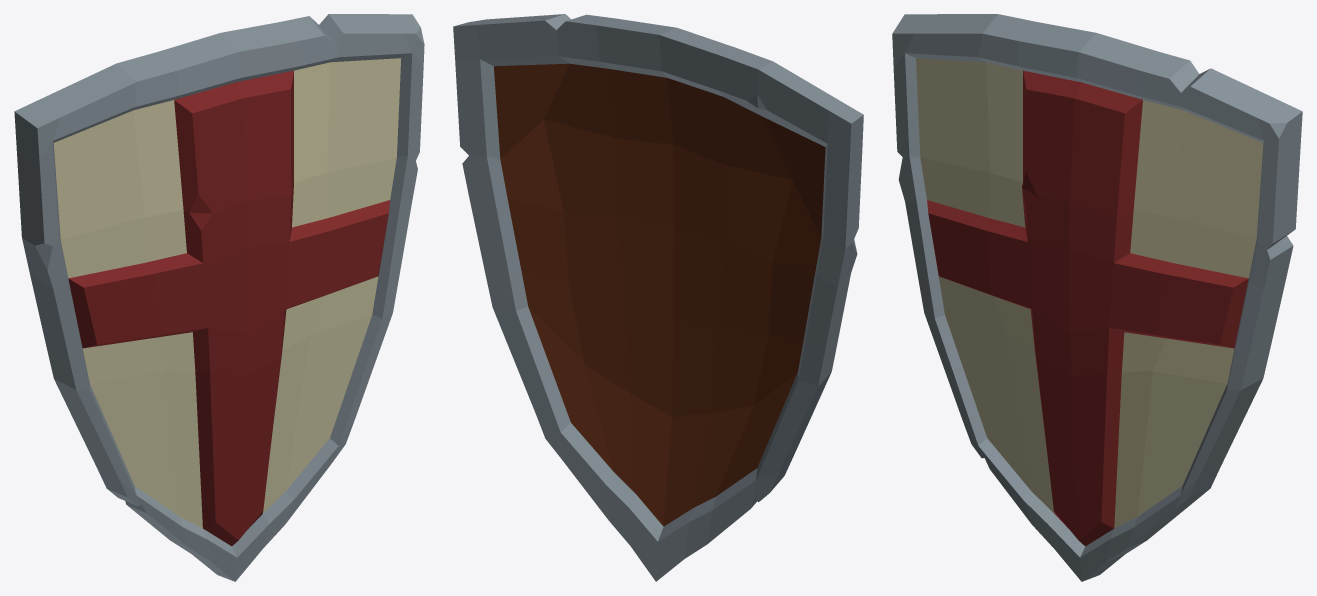
File: Cross.fbx
3 views of the same model, side by side, from view 1: azimuth 30°, elevation 25°; view 2: azimuth 150°, elevation 25°; view 3: azimuth 330°, elevation 25° (orthographic).
Parts seen in each view (by area): view 1: KnightCross; view 2: KnightCross; view 3: KnightCross.
Boxes of the visible parts, x1,y1,x2,y2 form: KnightCross: [14, 14, 424, 581]; KnightCross: [453, 14, 863, 581]; KnightCross: [892, 14, 1302, 581].
Bounding box in the file's own units: 65.89 × 86.12 × 9.91.
